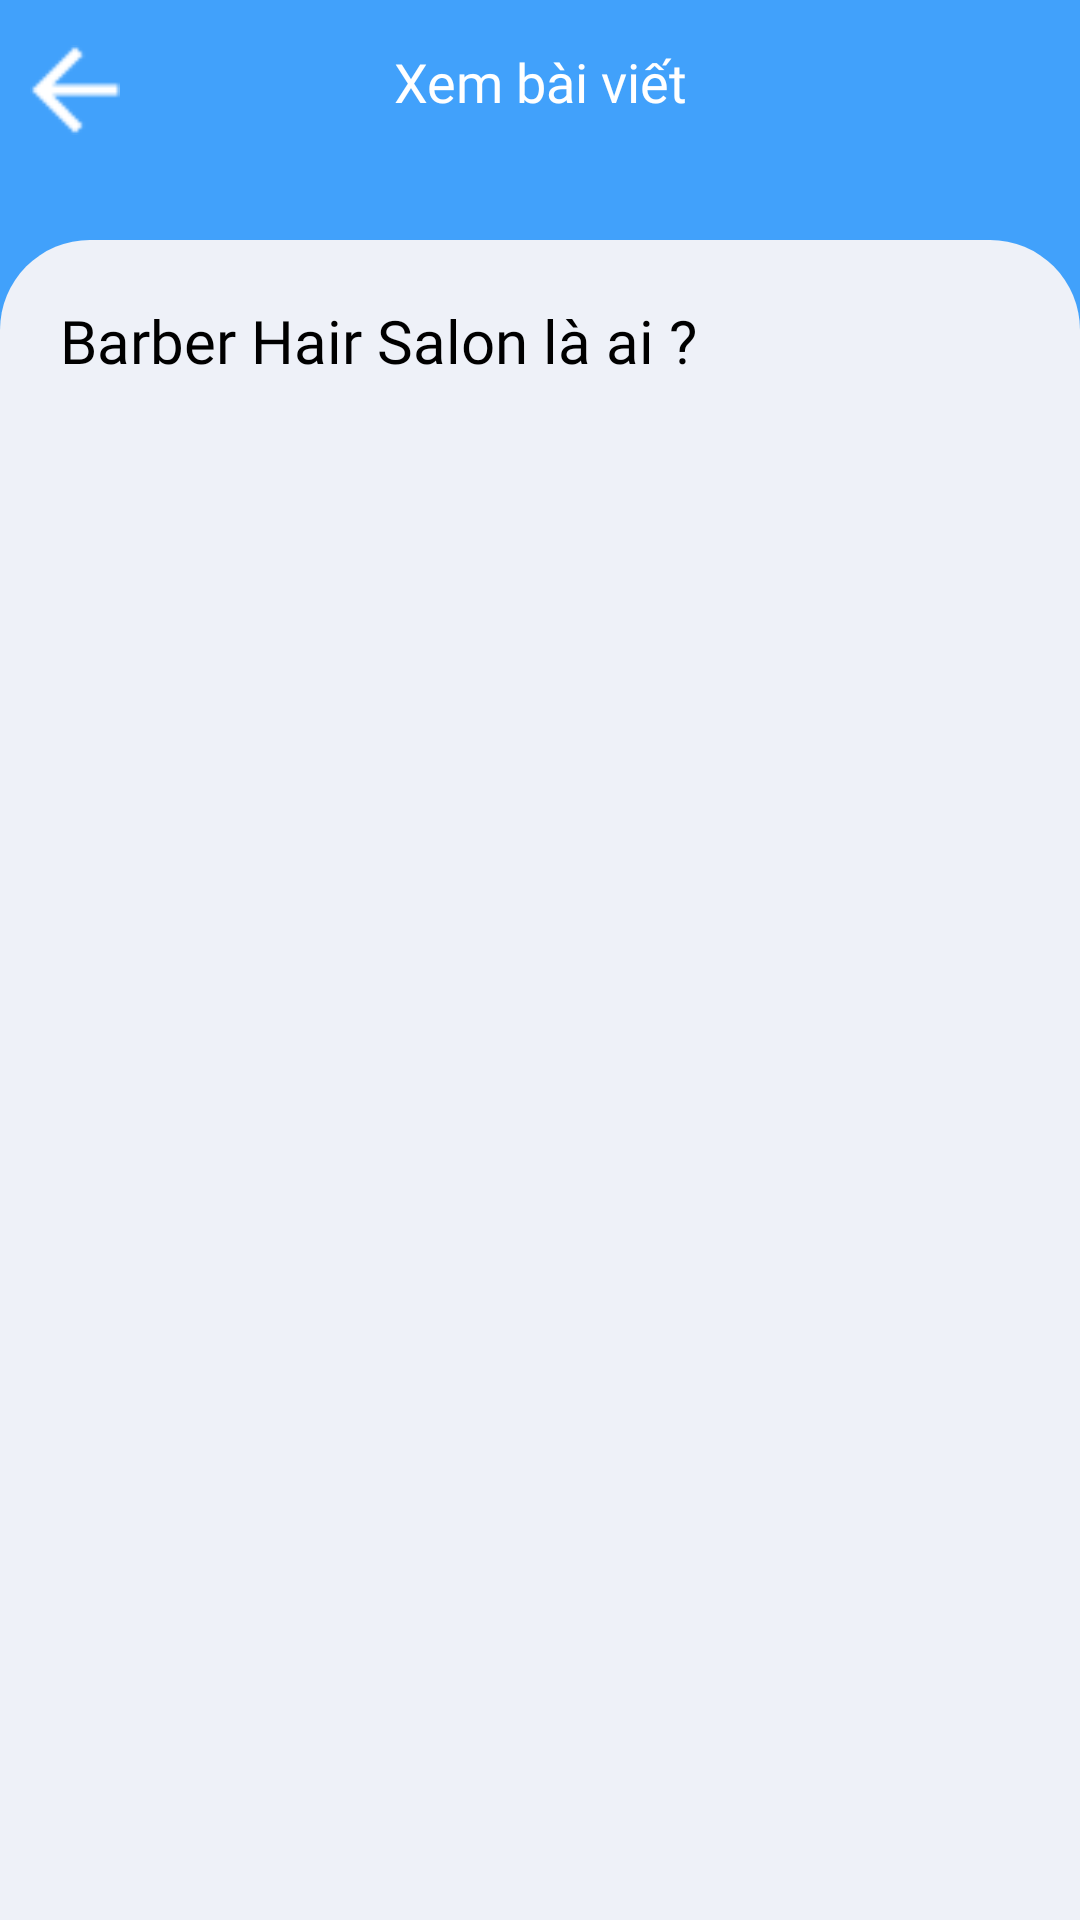

Icon click points for this 1080×1920 phone screenshot, format (x,y):
arrow back: (76,90)
